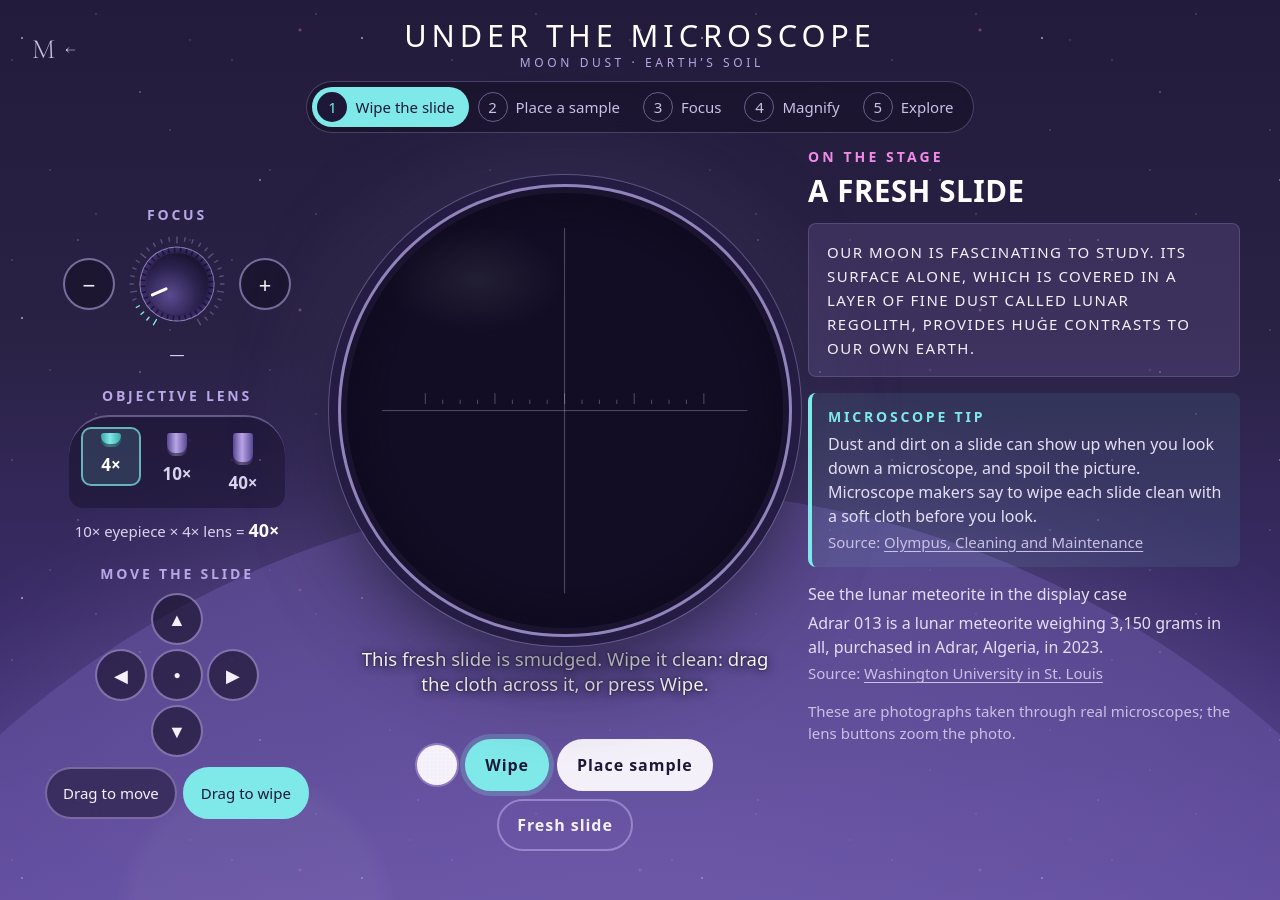
Scenario: the procedure › opens a tray of labelled Moon and Earth sample jars, and puts the chosen one on the slide
Click the button "Wipe" at (507, 765), box [465,739,549,791]
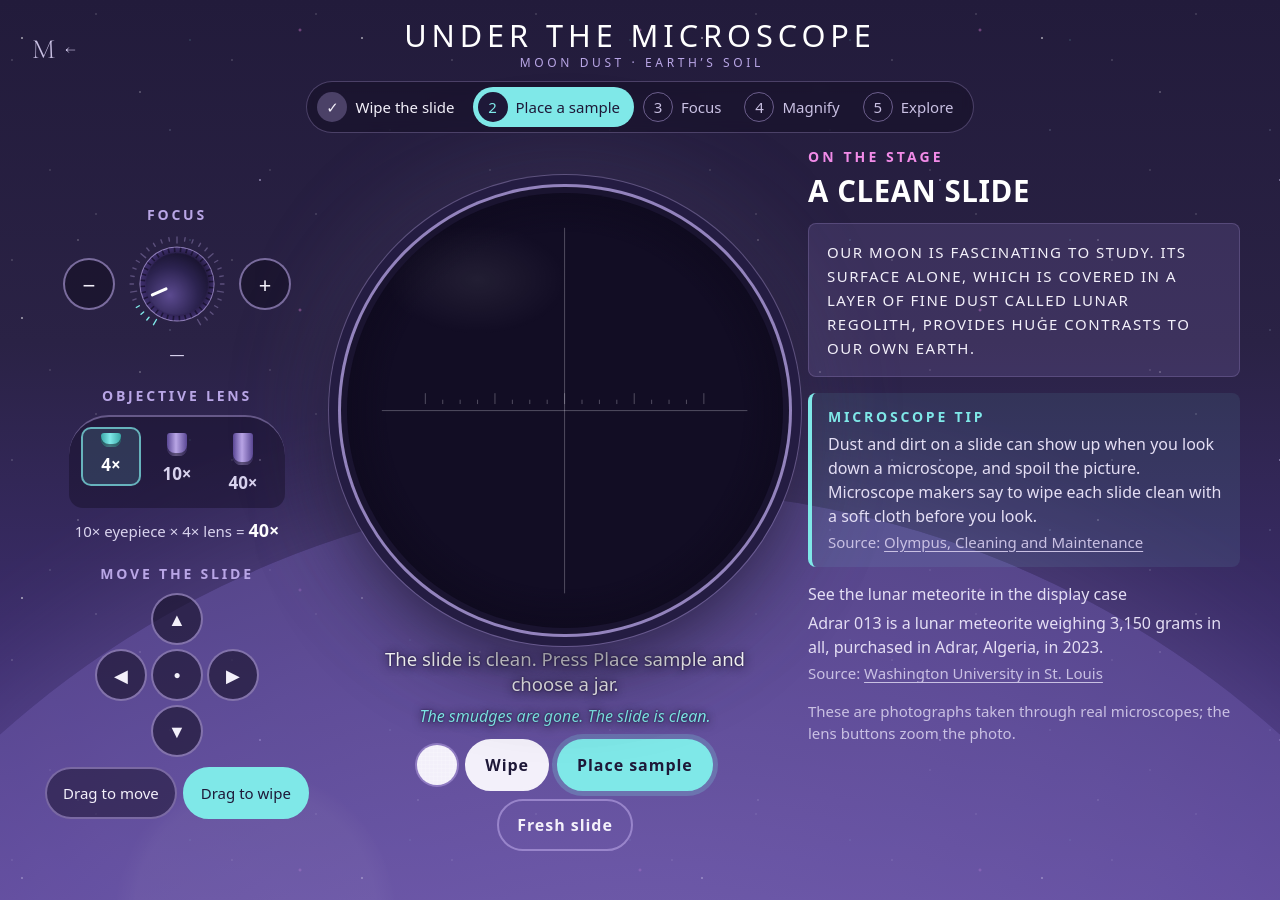
Click the button "Place sample" at (635, 765), box [557,739,713,791]
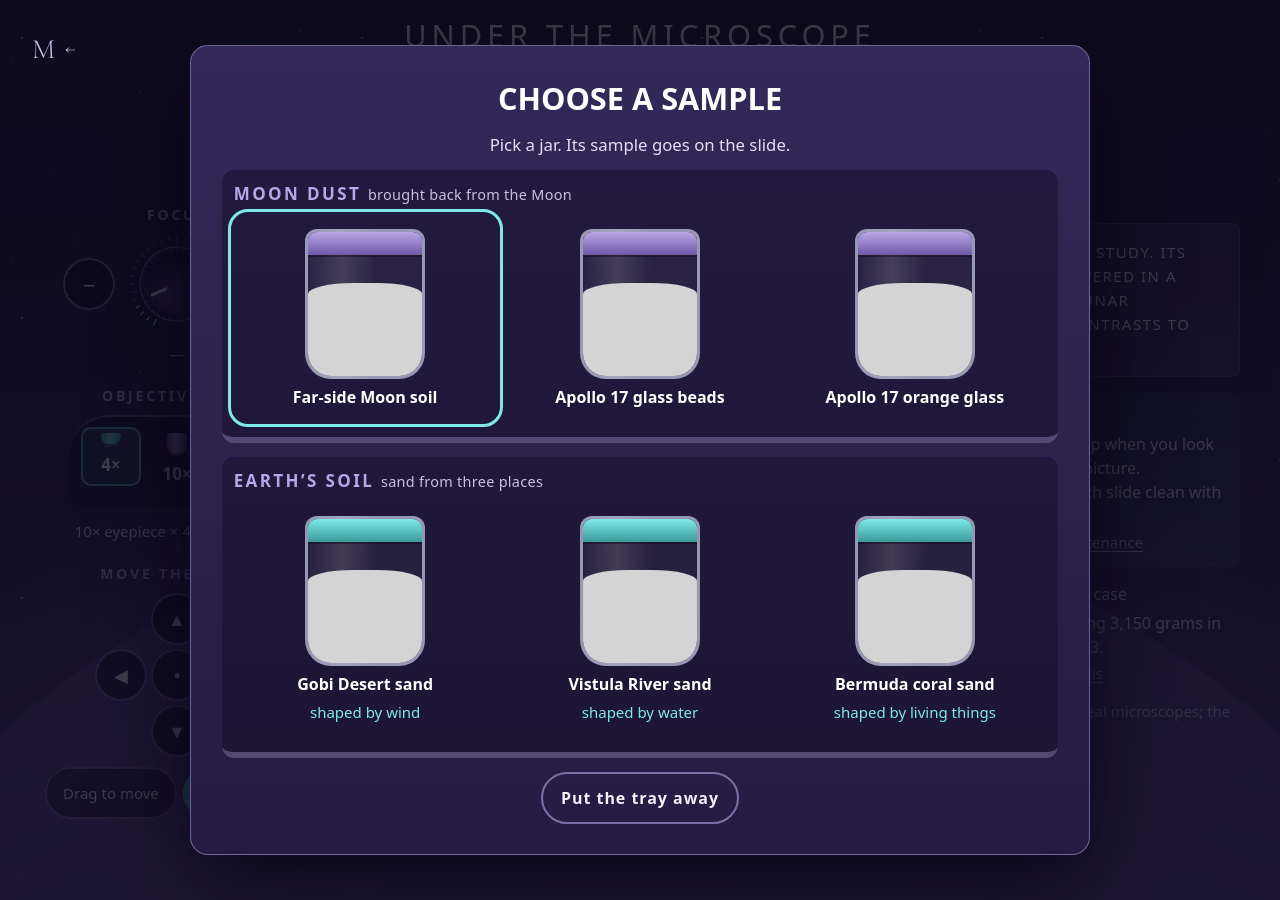
expect the heading "Moon dust brought back from the Moon" is shown: met, box [234,182,572,204]
expect the heading "Earth’s soil sand from three places" is shown: met, box [234,468,543,492]
Press Escape in the dialog "Choose a sample"
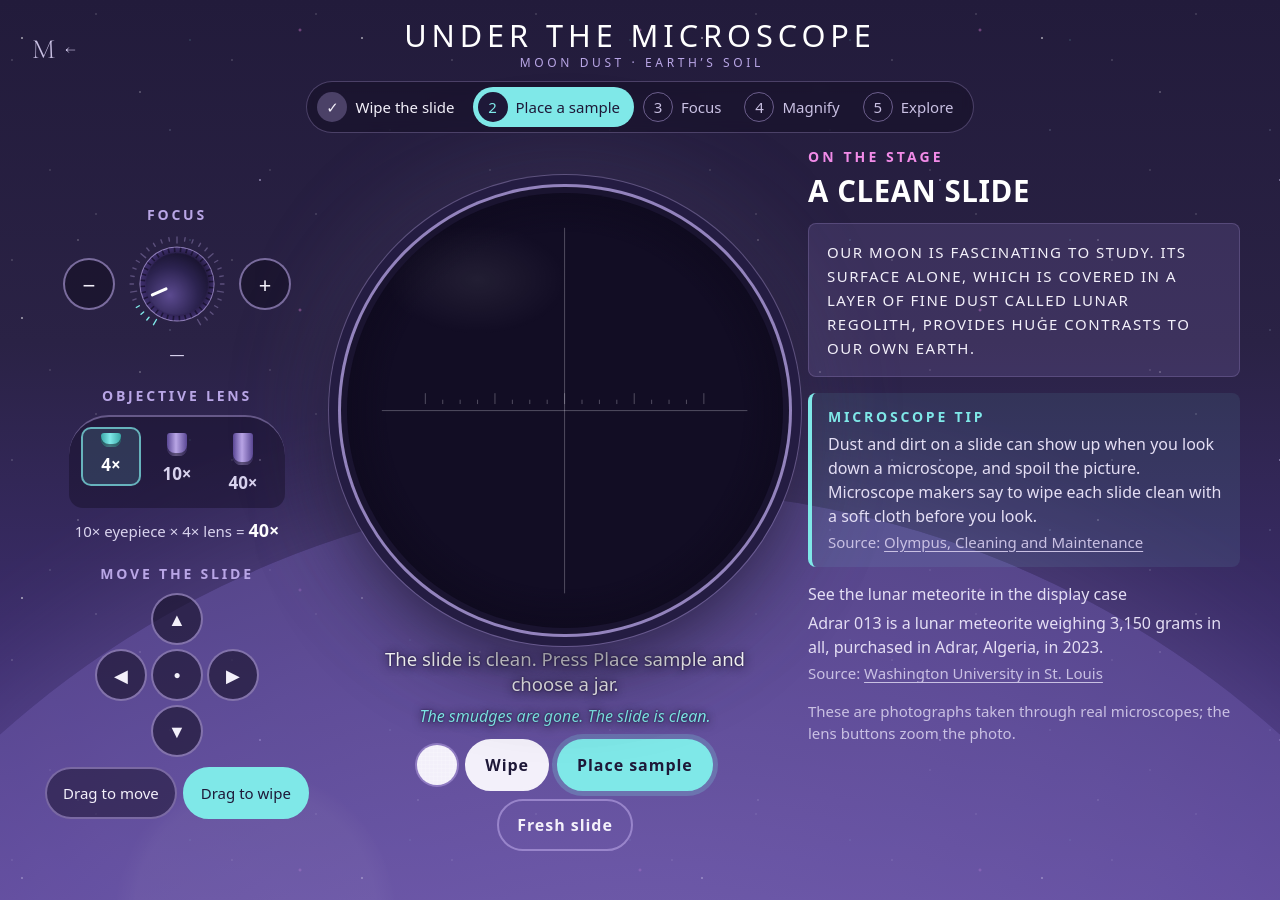
expect the dialog is gone: met
Click the button "Place sample" at (635, 765), box [557,739,713,791]
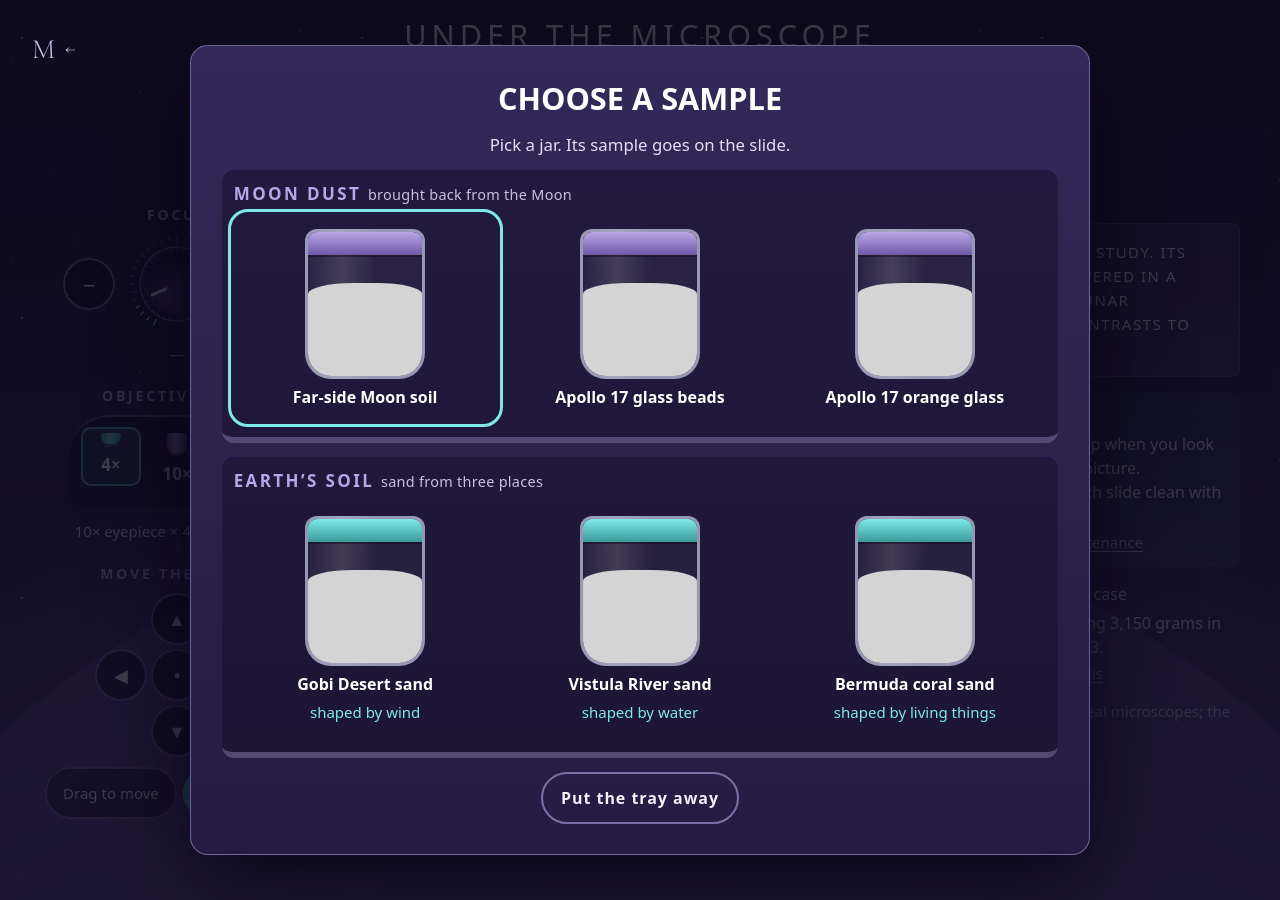
Click the button "Apollo 17 glass beads" at (640, 318), box [509,214,772,420]
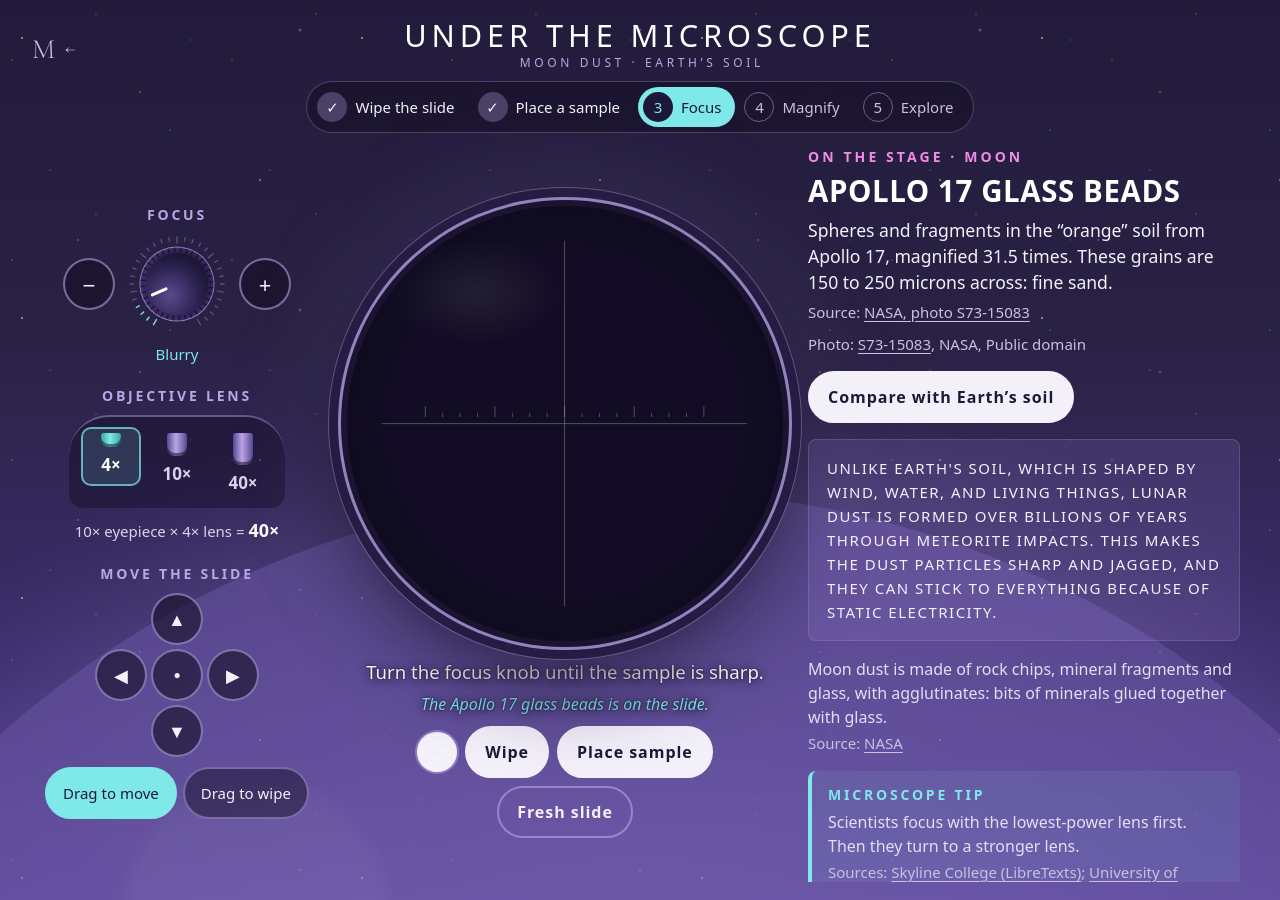
expect the list item "3 Focus" is shown: met, box [638,87,736,127]
expect the dialog is gone: met
expect the message reads "The Apollo 17 glass beads is on the slide.": met, box [421,693,709,715]
A sample on it already: wipe it off or take a fresh slide first.
Click the button "Place sample" at (635, 752), box [557,726,713,778]
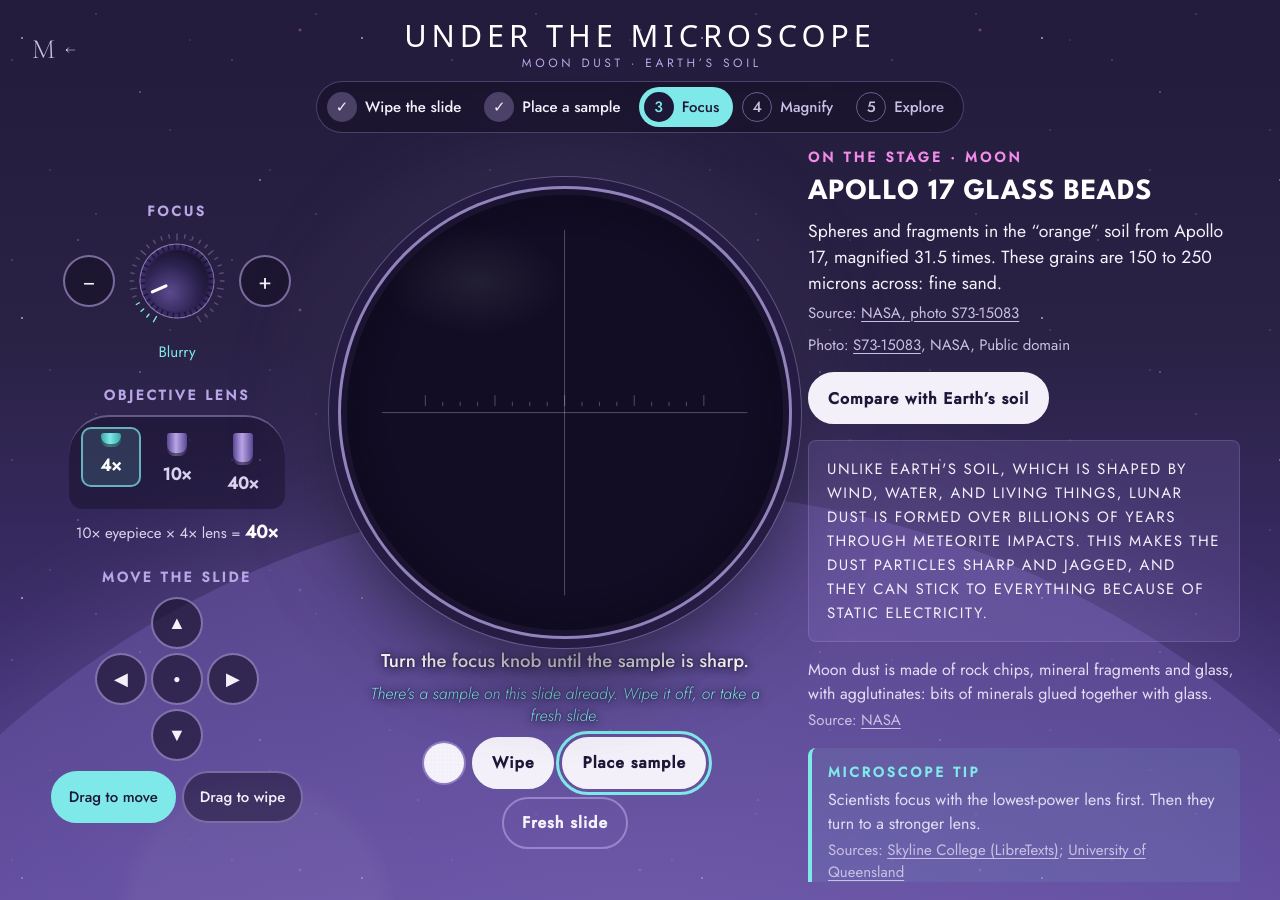
expect the message shows "There’s a sample on this slide already.": met, box [370,682,760,727]
